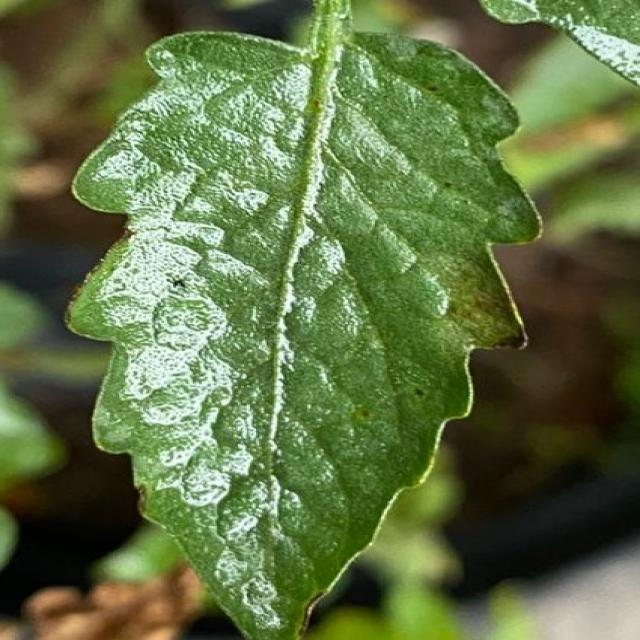Tomato_Healthy: (56, 12, 570, 640)
